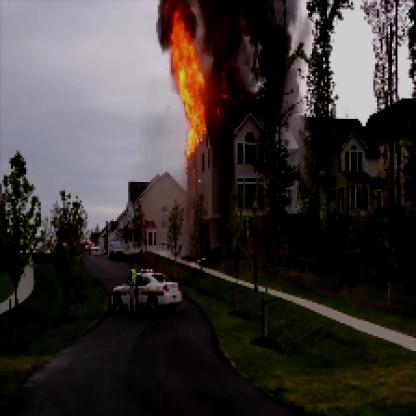Fire: (166, 2, 216, 160)
Smoke: (204, 2, 296, 115)
